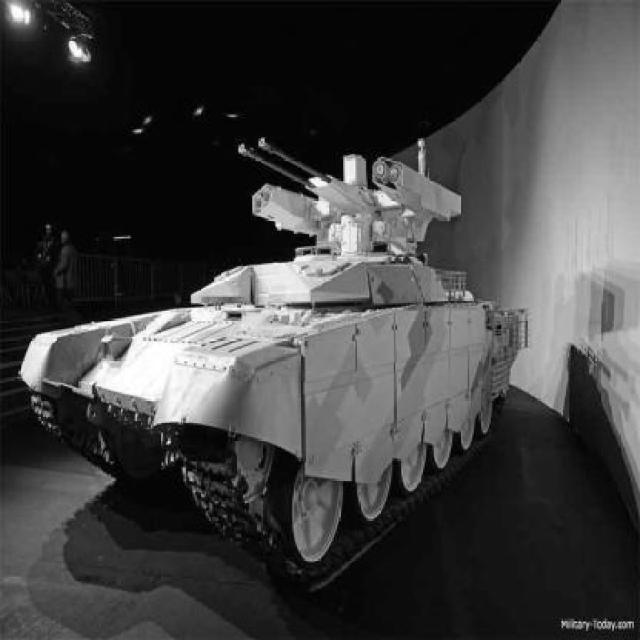Tank: (18, 135, 535, 584)
